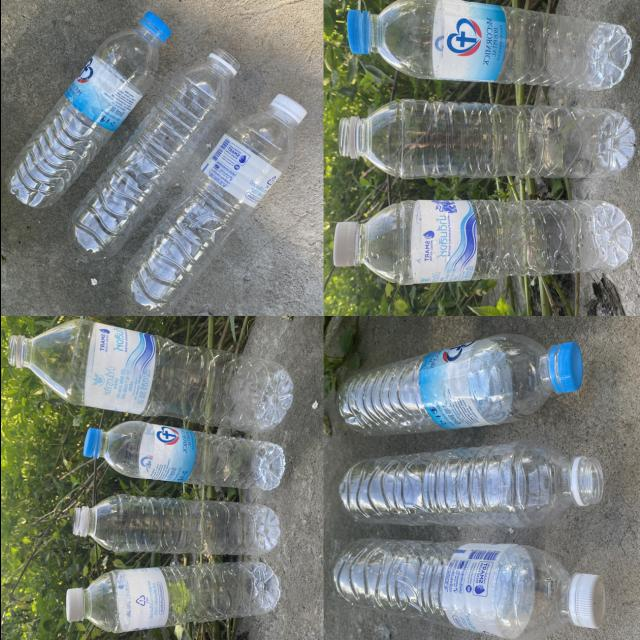plastik: (123, 94, 305, 315), (69, 48, 239, 258), (5, 12, 169, 208), (9, 318, 292, 431), (333, 539, 604, 640), (347, 0, 630, 90), (333, 200, 631, 284), (338, 334, 582, 435), (338, 99, 634, 179), (338, 440, 602, 528), (65, 561, 279, 633), (83, 421, 284, 489), (72, 495, 279, 555)
